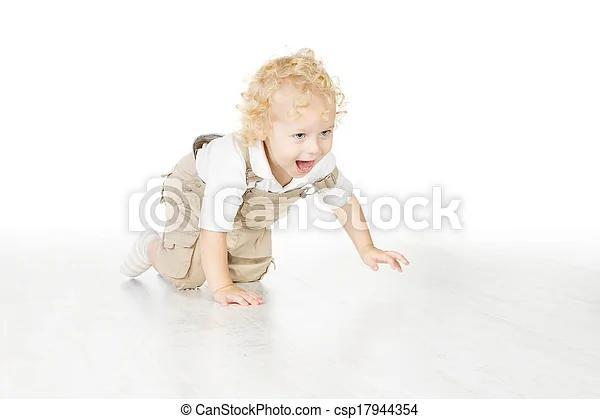child: (93, 40, 437, 317)
